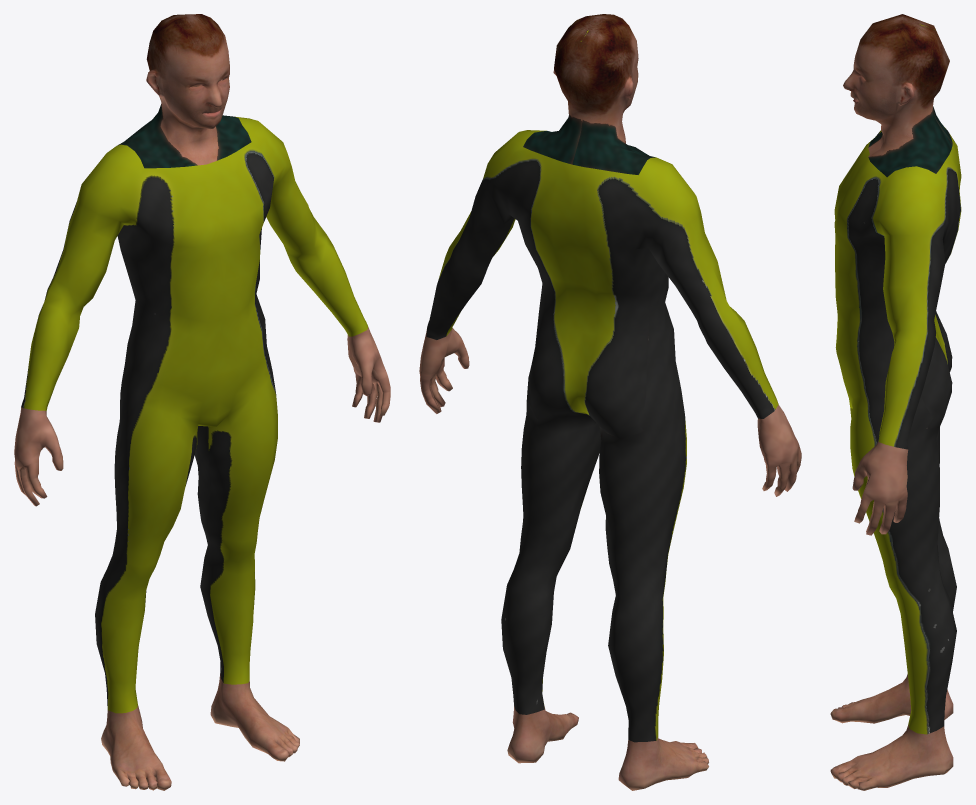
The model's file is Player.fbx.
3 renders of one model, left to right at view 1: azimuth 30°, elevation 25°; view 2: azimuth 150°, elevation 25°; view 3: azimuth 270°, elevation 25°, orthographic. The views are drawn at different scales.
Visible parts, largest first — view 1: MaleFigure; view 2: MaleFigure; view 3: MaleFigure.
Part boxes in pixels (x1,y1,x2,y2): MaleFigure: [14, 14, 390, 790]; MaleFigure: [419, 14, 801, 790]; MaleFigure: [830, 14, 961, 790].
Size of the model in its own units: 1.02 by 1.98 by 0.32.
1 material, 1 textured.
